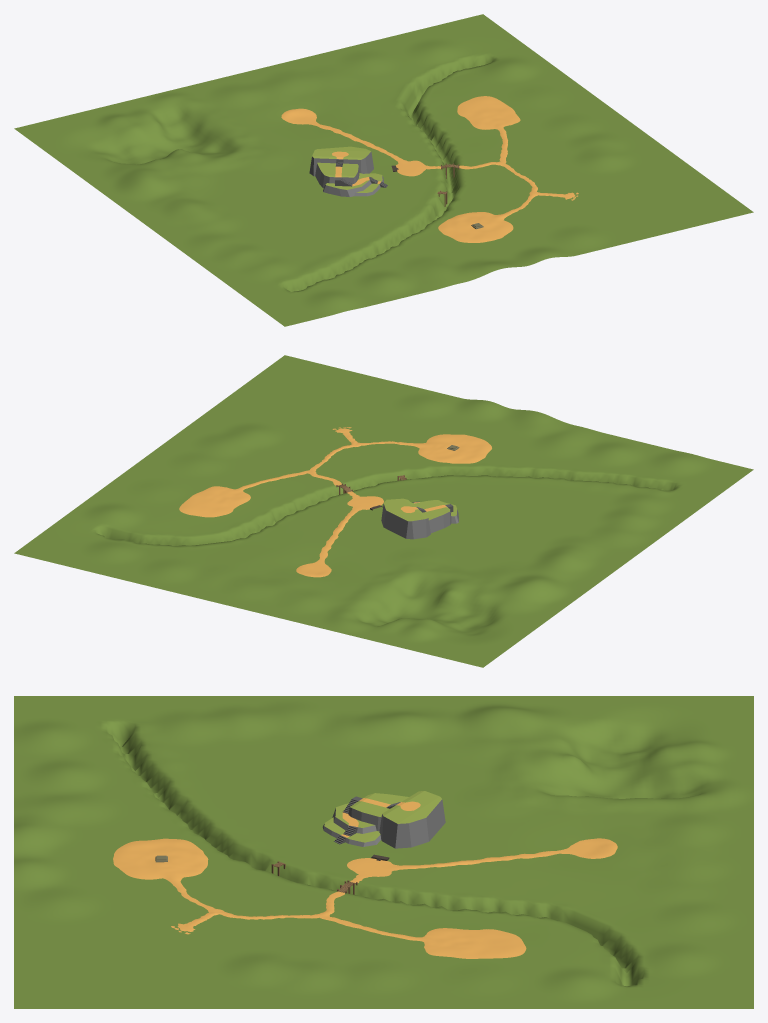
File: WalkableSurfaces.fbx
The picture shows the model from 3 angles, top to bottom: view 1: azimuth 30°, elevation 25°; view 2: azimuth 150°, elevation 25°; view 3: azimuth 270°, elevation 25°; orthographic projection. The views are drawn at different scales.
Visible parts, largest first — view 1: Plane.008, Cube.015, Cube.014, Cube.016; view 2: Plane.008, Cube.015, Cube.014; view 3: Plane.008, Cube.015, Cube.014, Cube.017, Cube.016.
Boxes of the visible parts, bbox=[...] form: Plane.008: bbox=[14, 14, 753, 326]; Cube.015: bbox=[309, 146, 373, 176]; Cube.014: bbox=[315, 162, 359, 188]; Cube.016: bbox=[323, 173, 371, 196]; Plane.008: bbox=[14, 355, 753, 667]; Cube.015: bbox=[381, 498, 430, 539]; Cube.014: bbox=[413, 500, 451, 533]; Plane.008: bbox=[14, 696, 753, 1008]; Cube.015: bbox=[379, 791, 445, 848]; Cube.014: bbox=[348, 793, 408, 831]; Cube.017: bbox=[322, 817, 381, 846]; Cube.016: bbox=[332, 803, 376, 833].
Bounding box in the file's own units: 16038 × 1181 × 16038.
